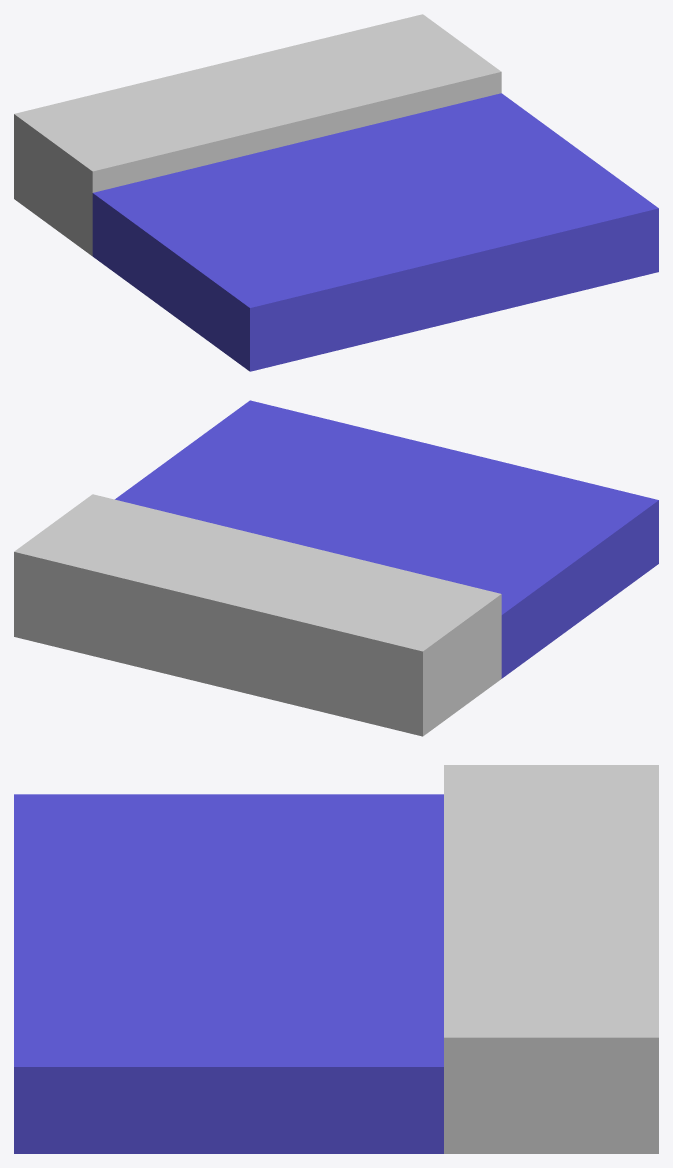
Rendered from LakeSide.fbx.
The picture shows the model from 3 angles, top to bottom: view 1: azimuth 30°, elevation 25°; view 2: azimuth 150°, elevation 25°; view 3: azimuth 270°, elevation 25°; orthographic projection. The views are drawn at different scales.
Visible parts, largest first — view 1: LakeSide; view 2: LakeSide; view 3: LakeSide.
Boxes of the visible parts, <box> form: LakeSide: <box>14,14,658,371</box>; LakeSide: <box>14,400,658,736</box>; LakeSide: <box>14,765,658,1153</box>.
Size of the model in its own units: 200 by 200 by 39.76.
